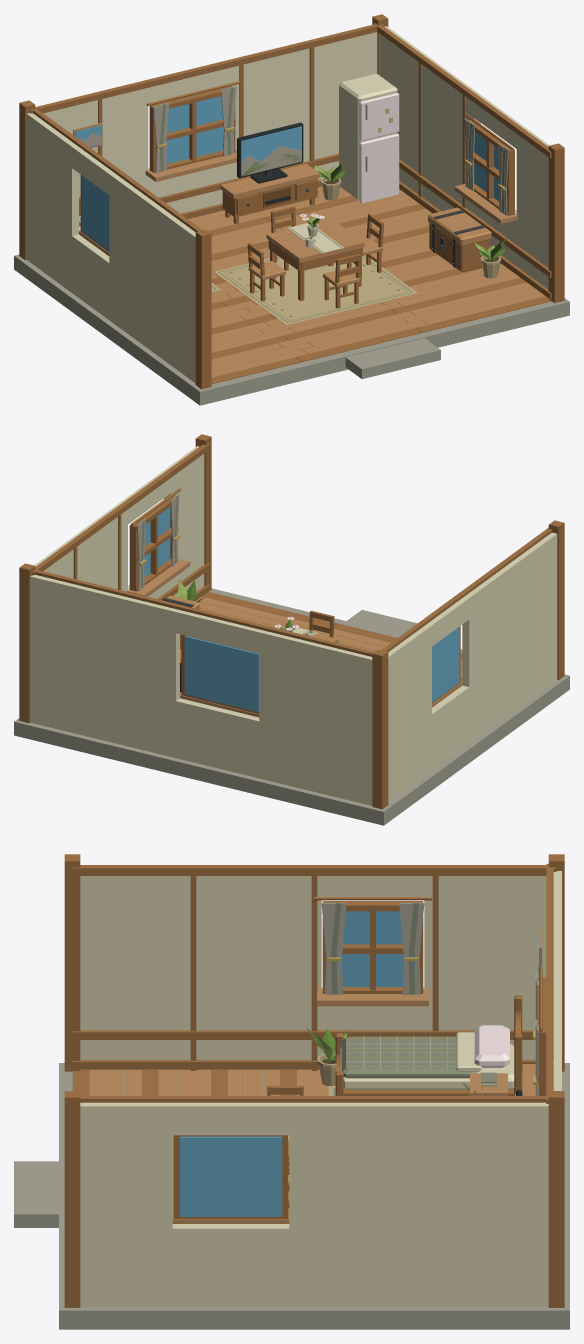
Rendered from HouseInterior_Lv2.fbx.
The picture shows the model from 3 angles, top to bottom: view 1: azimuth 30°, elevation 25°; view 2: azimuth 150°, elevation 25°; view 3: azimuth 270°, elevation 25°; orthographic projection. The views are drawn at different scales.
Visible parts, largest first — view 1: Floor_Planks_Staggered.001_FBX, BackWall.001_FBX, LeftWall.001_FBX, RightWall.001_FBX, Fridge_Cream_TwoDoor.001_FBX, Exterior_CornerPosts.001_FBX, Rug_Dining4.001_FBX, TV_Console_Drawers.001_FBX, TV_Flat_Landscape.001_FBX, DiningTable.001_FBX, Chest_Banded.002_FBX, Entrance_Step_CutawayPosts.001_FBX (+10 smaller); view 2: BackWall.001_FBX, LeftWall.001_FBX, Floor_Planks_Staggered.001_FBX, RightWall.001_FBX, Exterior_CornerPosts.001_FBX, Curtain_Tied.001_FBX, Entrance_Step_CutawayPosts.001_FBX; view 3: RightWall.001_FBX, LeftWall.001_FBX, Floor_Planks_Staggered.001_FBX, Exterior_CornerPosts.001_FBX, Bed_Single_Sage.002_FBX, BackWall.001_FBX, Curtain_Tied.002_FBX, Entrance_Step_CutawayPosts.001_FBX, Plant_Tall.001_FBX, Curtain_Tied_FBX, Nightstand_SingleDrawer.002_FBX.
Boxes of the visible parts, left/top/right/bottom form: Floor_Planks_Staggered.001_FBX: left=14, top=186, right=569, bottom=405; BackWall.001_FBX: left=30, top=24, right=383, bottom=219; LeftWall.001_FBX: left=26, top=109, right=202, bottom=383; RightWall.001_FBX: left=373, top=23, right=551, bottom=299; Fridge_Cream_TwoDoor.001_FBX: left=339, top=74, right=399, bottom=203; Exterior_CornerPosts.001_FBX: left=19, top=14, right=564, bottom=389; Rug_Dining4.001_FBX: left=214, top=255, right=417, bottom=325; TV_Console_Drawers.001_FBX: left=220, top=164, right=319, bottom=223; TV_Flat_Landscape.001_FBX: left=237, top=122, right=303, bottom=183; DiningTable.001_FBX: left=266, top=218, right=364, bottom=300; Chest_Banded.002_FBX: left=428, top=207, right=491, bottom=271; Entrance_Step_CutawayPosts.001_FBX: left=345, top=338, right=440, bottom=378; BackWall.001_FBX: left=30, top=570, right=374, bottom=805; LeftWall.001_FBX: left=381, top=528, right=557, bottom=803; Floor_Planks_Staggered.001_FBX: left=14, top=588, right=569, bottom=825; RightWall.001_FBX: left=32, top=443, right=210, bottom=601; Exterior_CornerPosts.001_FBX: left=19, top=434, right=564, bottom=809; Curtain_Tied.001_FBX: left=131, top=488, right=180, bottom=591; Entrance_Step_CutawayPosts.001_FBX: left=346, top=610, right=417, bottom=634; RightWall.001_FBX: left=80, top=1096, right=548, bottom=1306; LeftWall.001_FBX: left=72, top=865, right=556, bottom=1070; Floor_Planks_Staggered.001_FBX: left=59, top=1063, right=569, bottom=1329; Exterior_CornerPosts.001_FBX: left=64, top=854, right=564, bottom=1307; Bed_Single_Sage.002_FBX: left=335, top=995, right=522, bottom=1095; BackWall.001_FBX: left=522, top=864, right=561, bottom=1103; Curtain_Tied.002_FBX: left=314, top=897, right=431, bottom=994; Entrance_Step_CutawayPosts.001_FBX: left=14, top=1161, right=58, bottom=1227; Plant_Tall.001_FBX: left=307, top=1028, right=347, bottom=1086; Curtain_Tied_FBX: left=533, top=967, right=542, bottom=1095; Nightstand_SingleDrawer.002_FBX: left=469, top=1073, right=507, bottom=1095.
Bounding box in the file's own units: 7.02 × 3.04 × 6.66.
